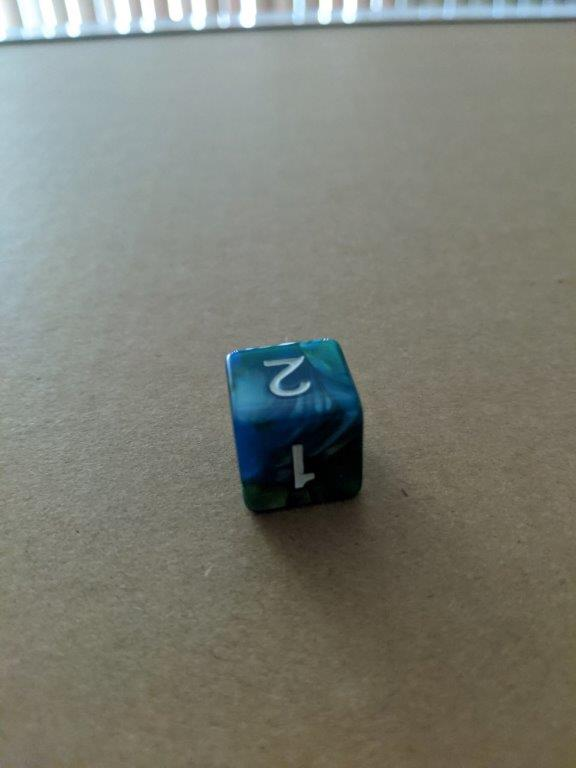d6-2: (223, 336, 367, 516)
